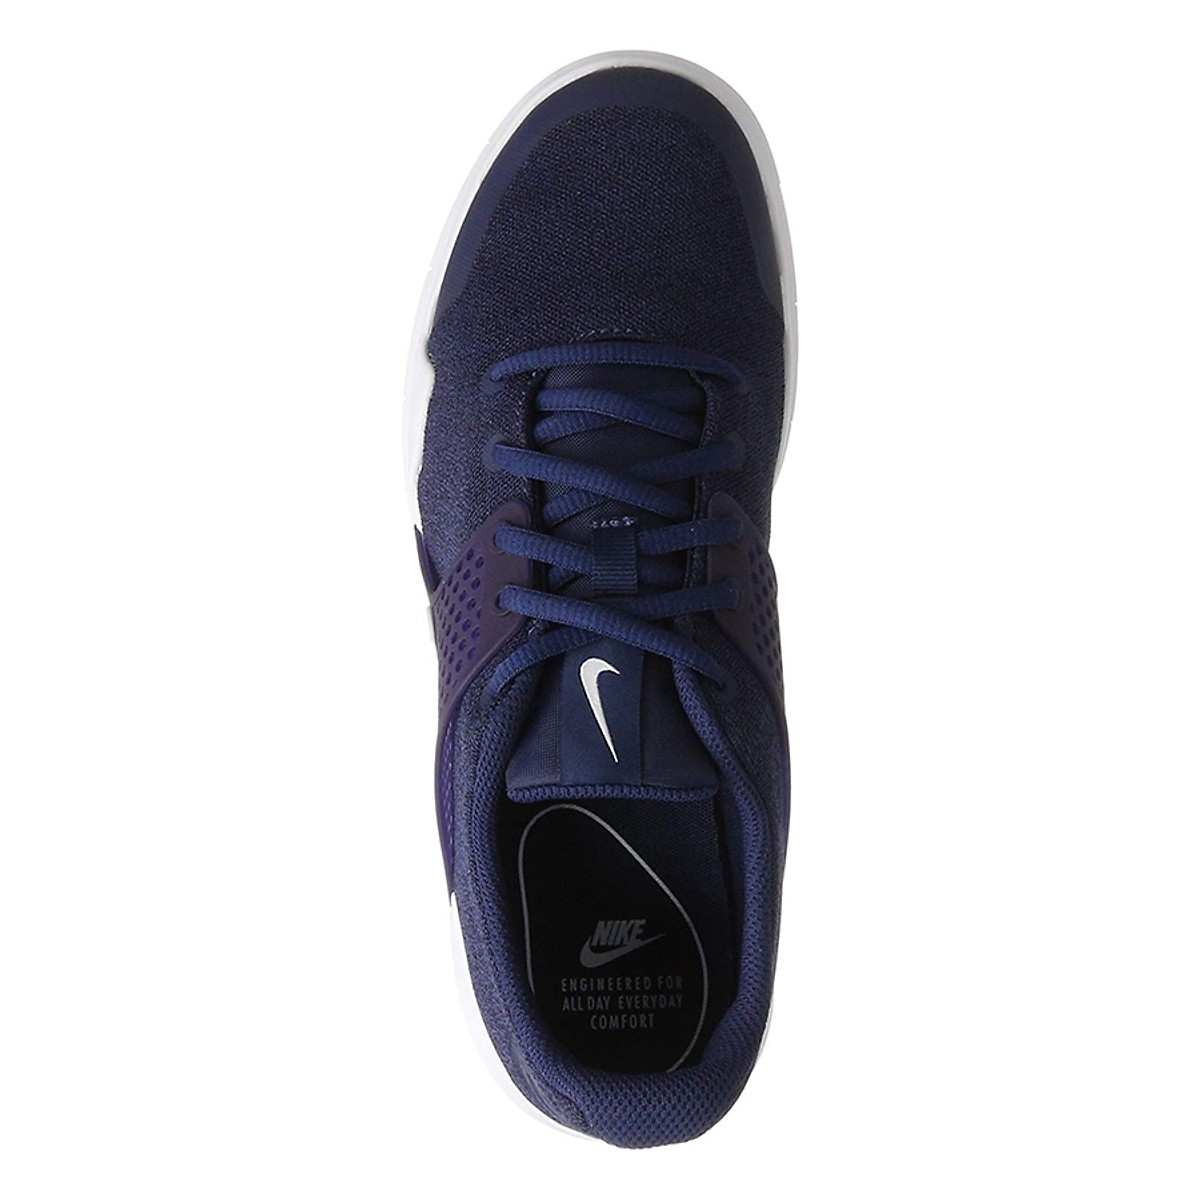Nike: (503, 895, 808, 1078), (524, 612, 716, 791)
